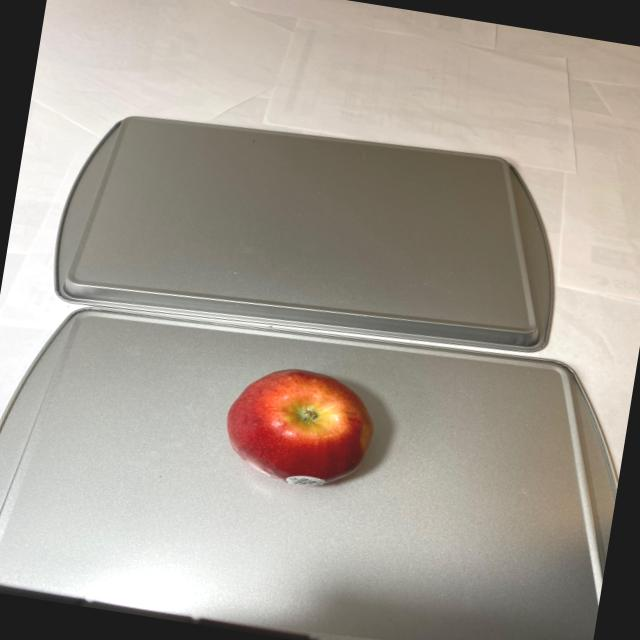apple: (216, 356, 386, 498)
